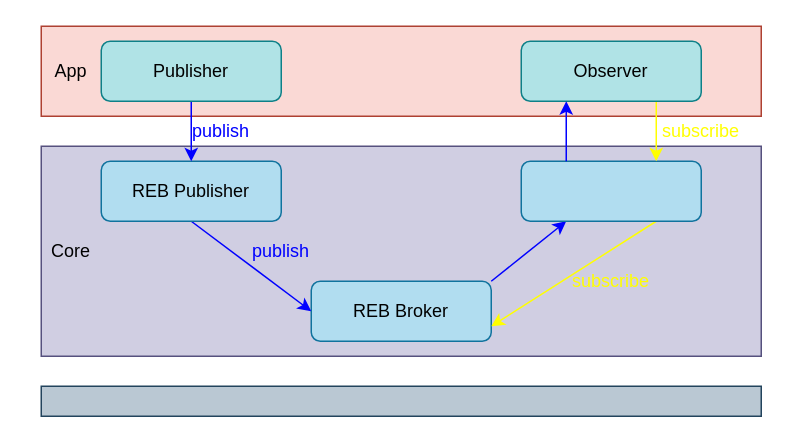
Some shapes in this 788 by 443 pixel diagram are drawn without their labels. The centre of each missing label's shape, as x and y in pixels:
"OSAL" belongs at [400,400].
"REB Observer" belongs at [610,190].
